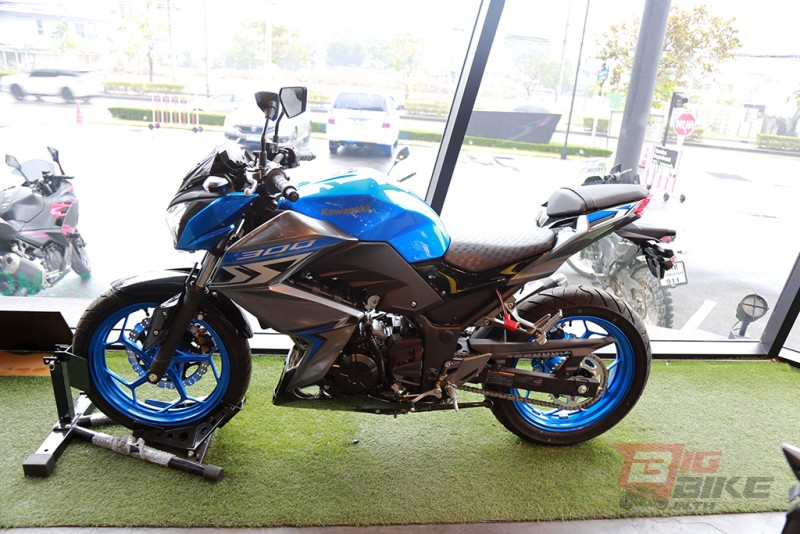motorcycle: (79, 137, 652, 443)
